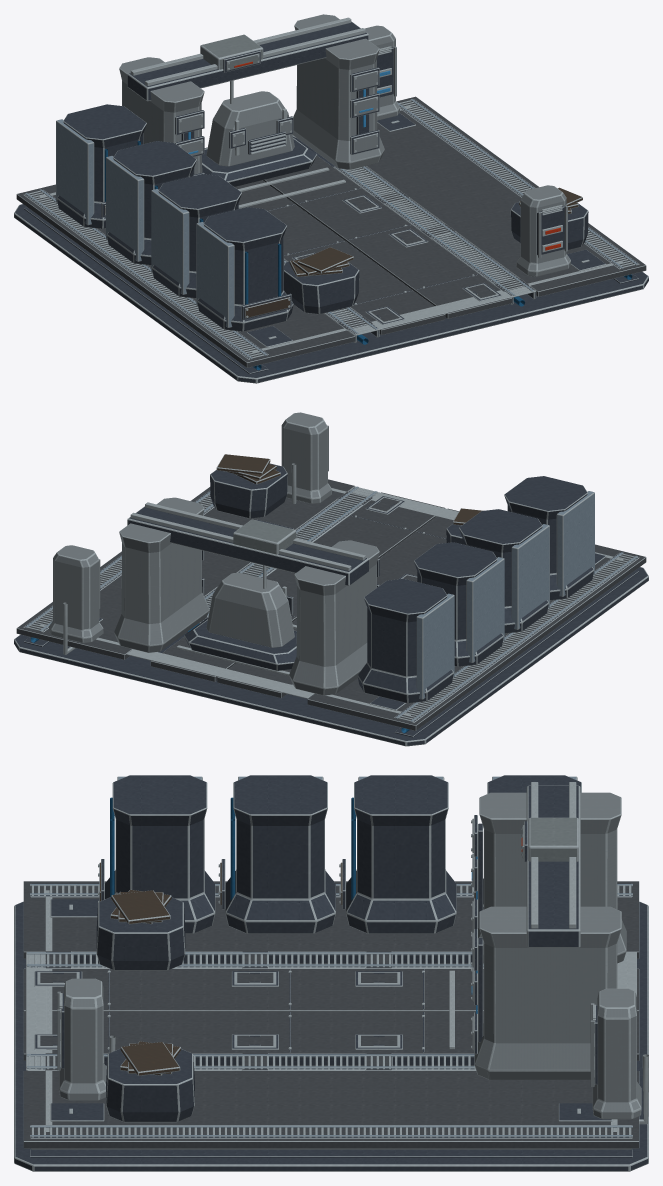
Rendered from ShieldDump.fbx.
3 renders of one model, top to bottom at view 1: azimuth 30°, elevation 25°; view 2: azimuth 150°, elevation 25°; view 3: azimuth 270°, elevation 25°, orthographic. The views are drawn at different scales.
Parts seen in each view (by area): view 1: CH_ShieldDump_refined_floor_0_0, CH_ShieldDump_armor_transfer_0_1, CH_ShieldDump_refined_floor_-1_0, CH_ShieldDump_foundation_0_0, CH_ShieldDump_armor_storage_-1_-2, CH_ShieldDump_armor_transfer_-1_1, CH_ShieldDump_sort_controls_0_-2, CH_ShieldDump_armor_storage_-1_1, CH_ShieldDump_sort_controls_-1_-2, CH_ShieldDump_armor_storage_-1_0, CH_ShieldDump_armor_storage_-1_-1, CH_ShieldDump_refined_floor_0_-1 (+18 smaller); view 2: CH_ShieldDump_armor_transfer_0_1, CH_ShieldDump_foundation_0_0, CH_ShieldDump_refined_floor_0_0, CH_ShieldDump_armor_transfer_-1_1, CH_ShieldDump_refined_floor_-1_0, CH_ShieldDump_sort_controls_0_-2, CH_ShieldDump_armor_storage_-1_1, CH_ShieldDump_sort_controls_0_2, CH_ShieldDump_armor_storage_-1_0, CH_ShieldDump_armor_storage_-1_-1, CH_ShieldDump_armor_storage_-1_-2, CH_ShieldDump_floor_-2_0 (+11 smaller); view 3: CH_ShieldDump_refined_floor_0_0, CH_ShieldDump_refined_floor_-1_0, CH_ShieldDump_armor_transfer_0_1, CH_ShieldDump_armor_storage_-1_0, CH_ShieldDump_armor_storage_-1_-1, CH_ShieldDump_foundation_0_0, CH_ShieldDump_armor_transfer_-1_1, CH_ShieldDump_armor_storage_-1_-2, CH_ShieldDump_sort_controls_0_-2, CH_ShieldDump_floor_1_0, CH_ShieldDump_sort_controls_-1_-2, CH_ShieldDump_sort_controls_0_2 (+19 smaller).
Boxes of the visible parts, x1,y1,x2,y2 form: CH_ShieldDump_refined_floor_0_0: (263, 96, 646, 318); CH_ShieldDump_armor_transfer_0_1: (127, 14, 384, 191); CH_ShieldDump_refined_floor_-1_0: (16, 147, 445, 367); CH_ShieldDump_foundation_0_0: (14, 138, 648, 383); CH_ShieldDump_armor_storage_-1_-2: (197, 207, 293, 331); CH_ShieldDump_armor_transfer_-1_1: (119, 34, 263, 174); CH_ShieldDump_sort_controls_0_-2: (510, 185, 588, 276); CH_ShieldDump_armor_storage_-1_1: (57, 104, 146, 228); CH_ShieldDump_sort_controls_-1_-2: (284, 247, 359, 314); CH_ShieldDump_armor_storage_-1_0: (106, 141, 196, 265); CH_ShieldDump_armor_storage_-1_-1: (152, 174, 241, 298); CH_ShieldDump_refined_floor_0_-1: (333, 166, 536, 306); CH_ShieldDump_armor_transfer_0_1: (114, 497, 368, 670); CH_ShieldDump_foundation_0_0: (14, 502, 648, 746); CH_ShieldDump_refined_floor_0_0: (16, 479, 445, 681); CH_ShieldDump_armor_transfer_-1_1: (233, 519, 379, 695); CH_ShieldDump_refined_floor_-1_0: (217, 508, 646, 730); CH_ShieldDump_sort_controls_0_-2: (210, 412, 331, 518); CH_ShieldDump_armor_storage_-1_1: (357, 578, 453, 703); CH_ShieldDump_sort_controls_0_2: (49, 545, 103, 654); CH_ShieldDump_armor_storage_-1_0: (414, 542, 503, 666); CH_ShieldDump_armor_storage_-1_-1: (459, 509, 548, 633); CH_ShieldDump_armor_storage_-1_-2: (504, 476, 594, 600); CH_ShieldDump_floor_-2_0: (394, 552, 639, 737); CH_ShieldDump_refined_floor_0_0: (23, 1012, 639, 1148); CH_ShieldDump_refined_floor_-1_0: (23, 881, 639, 1011); CH_ShieldDump_armor_transfer_0_1: (474, 782, 621, 1079); CH_ShieldDump_armor_storage_-1_0: (346, 775, 456, 933); CH_ShieldDump_armor_storage_-1_-1: (225, 775, 335, 933); CH_ShieldDump_foundation_0_0: (14, 901, 648, 1171); CH_ShieldDump_armor_transfer_-1_1: (476, 792, 626, 963); CH_ShieldDump_armor_storage_-1_-2: (104, 775, 215, 933); CH_ShieldDump_sort_controls_0_-2: (59, 978, 194, 1122); CH_ShieldDump_floor_1_0: (30, 1125, 632, 1157); CH_ShieldDump_sort_controls_-1_-2: (96, 889, 185, 970); CH_ShieldDump_sort_controls_0_2: (590, 988, 648, 1124).
Bounding box in the file's own units: 20 × 6.8 × 20.
